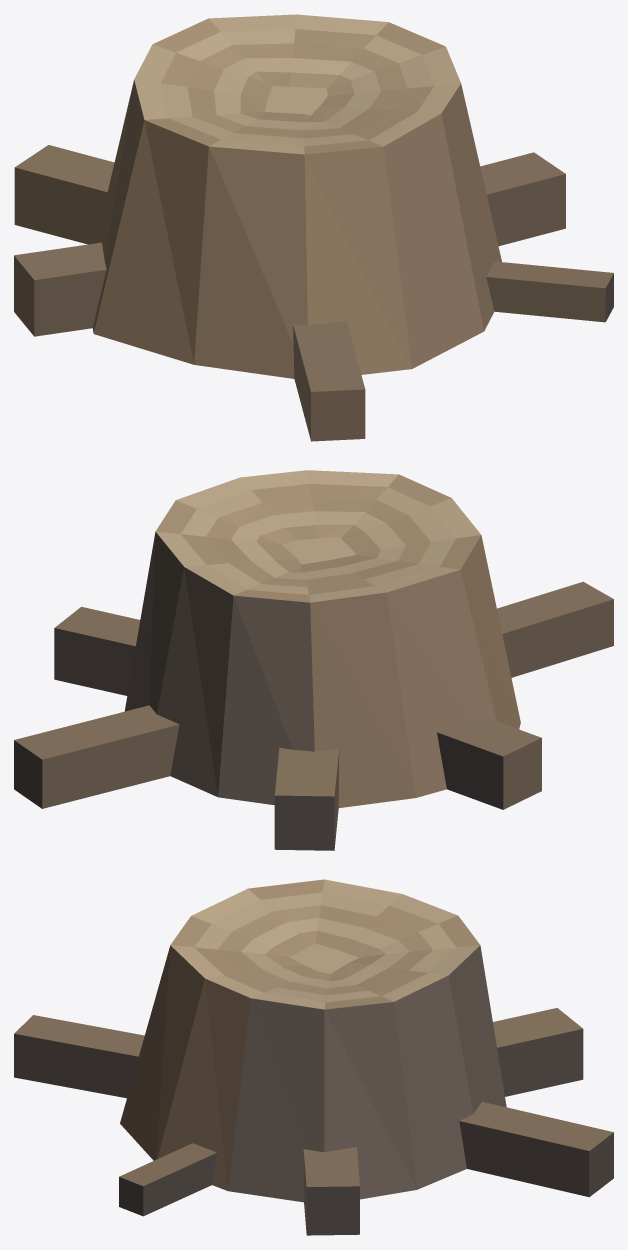
Rendered from stump.glb.
3 renders of one model, top to bottom at view 1: azimuth 30°, elevation 25°; view 2: azimuth 150°, elevation 25°; view 3: azimuth 270°, elevation 25°, orthographic. The views are drawn at different scales.
Visible parts, largest first — view 1: stump; view 2: stump; view 3: stump.
Part boxes in pixels (x1,y1,x2,y2): stump: (14, 14, 613, 441); stump: (14, 470, 613, 850); stump: (14, 879, 613, 1235).
Bounding box in the file's own units: 1.32 × 0.5 × 1.52.
